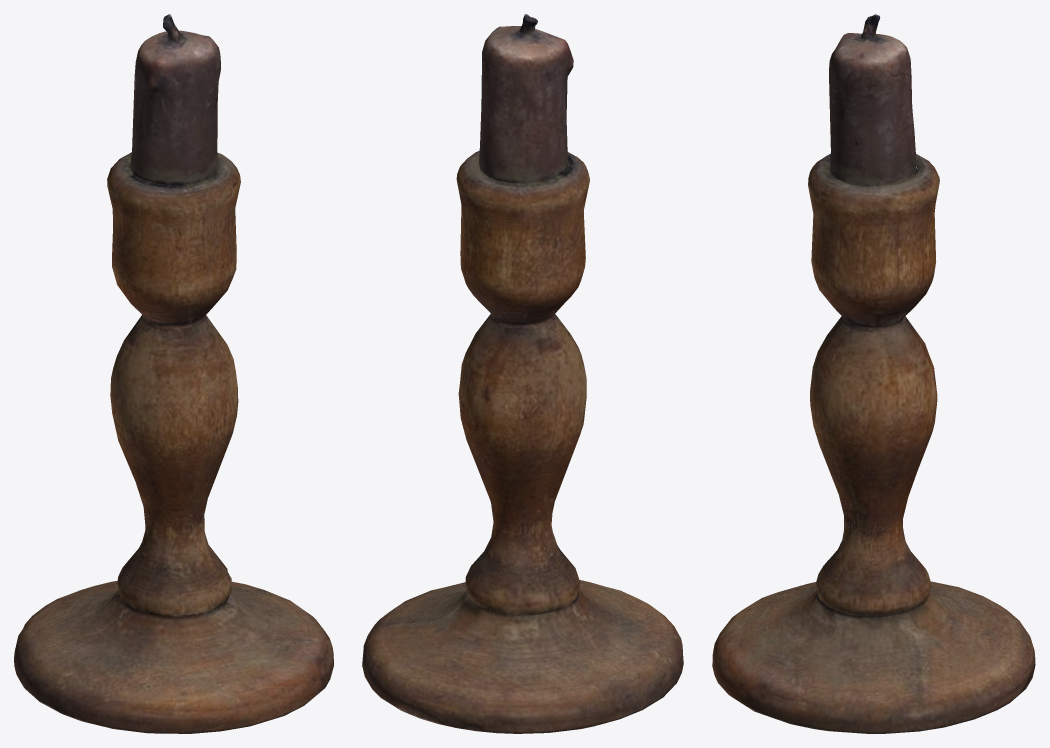
File: candle_wood.glb
3 views of the same model, side by side, from view 1: azimuth 30°, elevation 25°; view 2: azimuth 150°, elevation 25°; view 3: azimuth 270°, elevation 25° (orthographic).
Visible parts, largest first — view 1: wooden_candlestick; view 2: wooden_candlestick; view 3: wooden_candlestick.
Boxes of the visible parts, left/top/right/bottom form: wooden_candlestick: left=14, top=14, right=333, bottom=733; wooden_candlestick: left=362, top=14, right=683, bottom=733; wooden_candlestick: left=712, top=14, right=1035, bottom=733.
Bounding box in the file's own units: 0.0972 × 0.2196 × 0.0986.
1 material, 1 textured.
